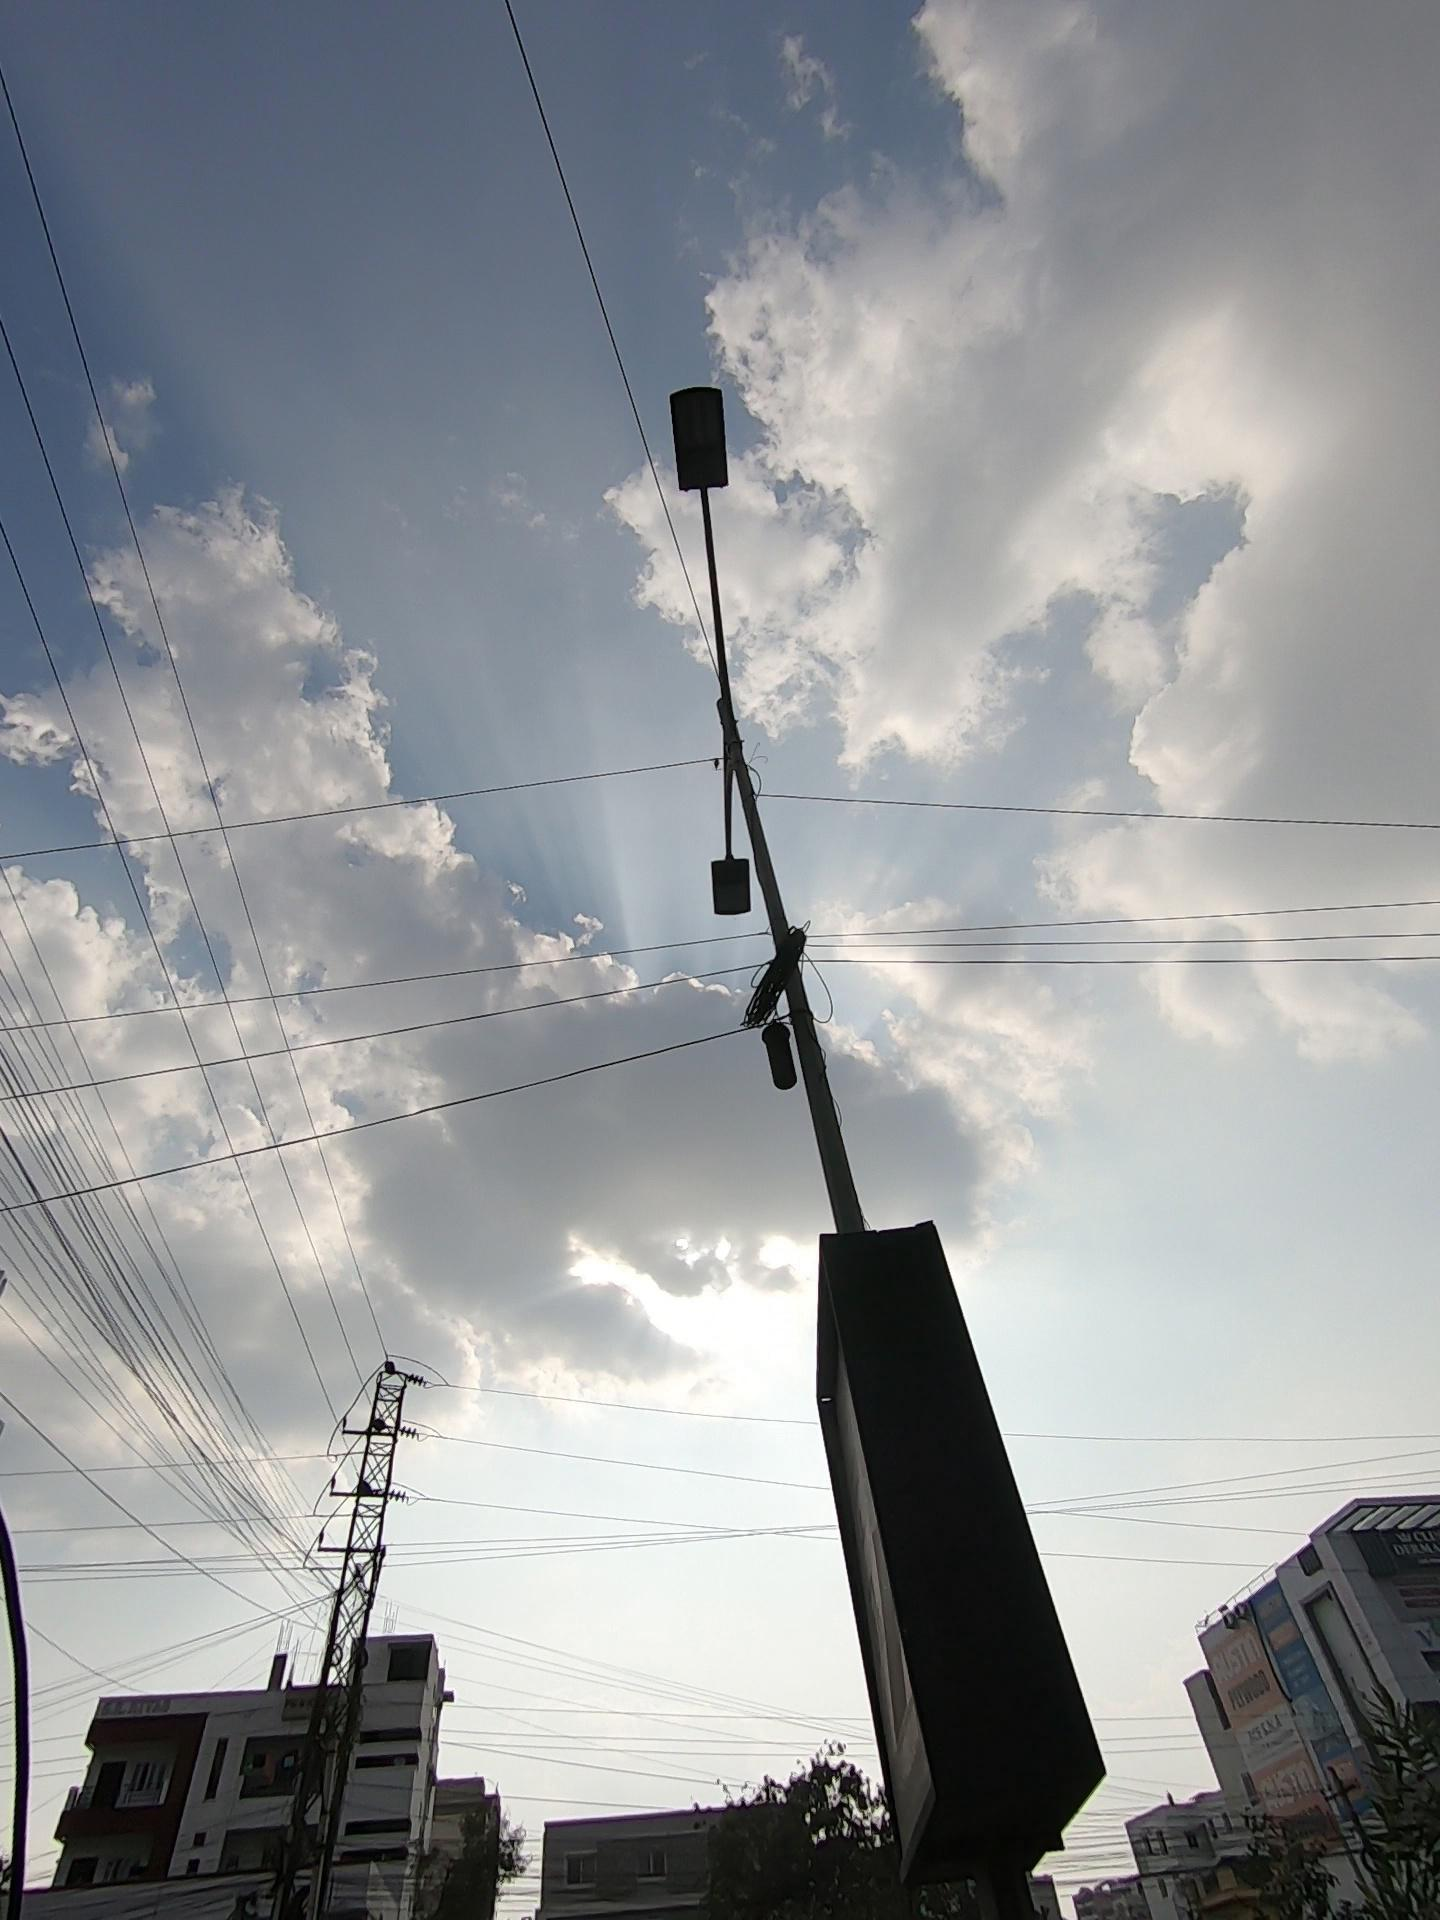off: (635, 355, 1007, 1055)
